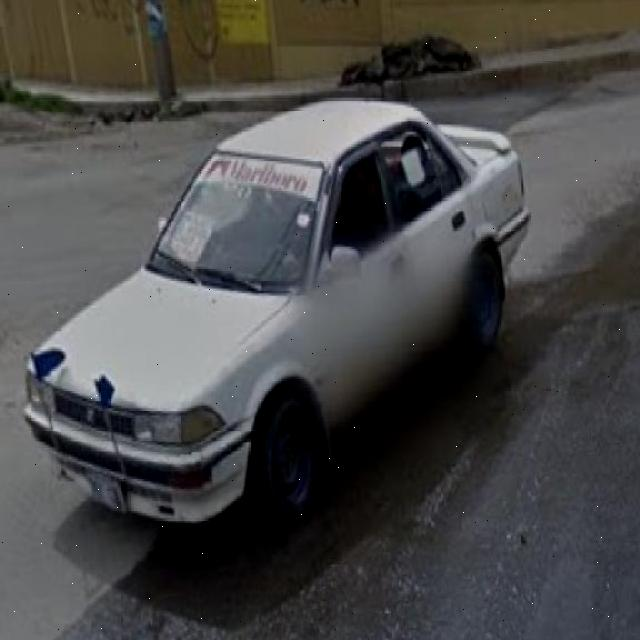car: (29, 100, 534, 532)
